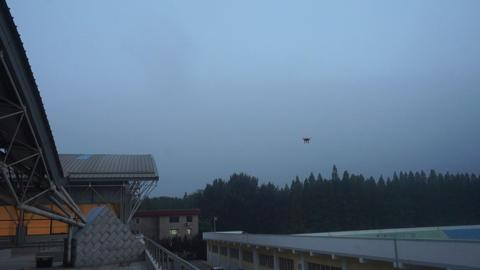UAV: (302, 138, 312, 144)
